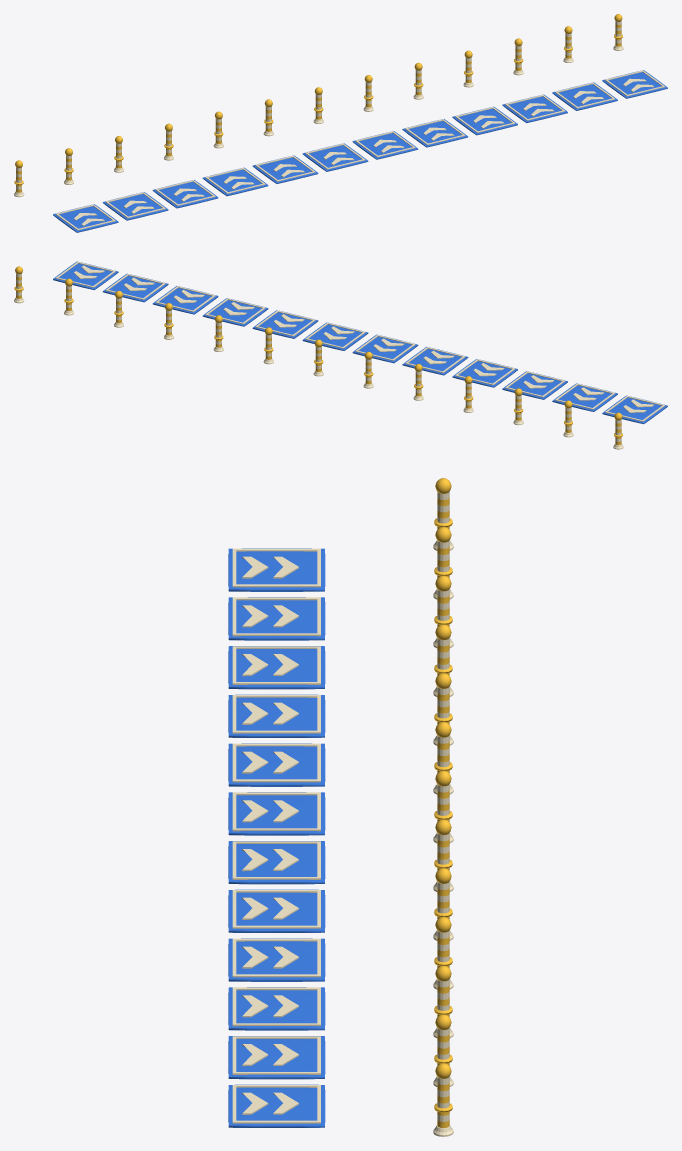
The model's file is RockinRacewayHurdleRow.obj.
The picture shows the model from 3 angles, top to bottom: view 1: azimuth 30°, elevation 25°; view 2: azimuth 150°, elevation 25°; view 3: azimuth 270°, elevation 25°; orthographic projection. The views are drawn at different scales.
Visible parts, largest first — view 1: Takeoff, Trim, Gold, Poles; view 2: Takeoff, Trim, Gold, Poles; view 3: Takeoff, Trim, Gold, Poles.
Part boxes in pixels (x1,y1,x2,y2): Takeoff: (53, 70, 667, 232); Trim: (14, 21, 665, 230); Gold: (14, 14, 622, 184); Poles: (16, 24, 621, 192); Takeoff: (53, 261, 667, 424); Trim: (14, 262, 665, 449); Gold: (14, 266, 622, 437); Poles: (16, 276, 621, 445); Takeoff: (228, 548, 325, 1127); Trim: (232, 491, 453, 1136); Gold: (434, 478, 452, 1112); Poles: (437, 498, 449, 1128).
Size of the model in its own units: 54.8 by 2.96 by 8.79.
